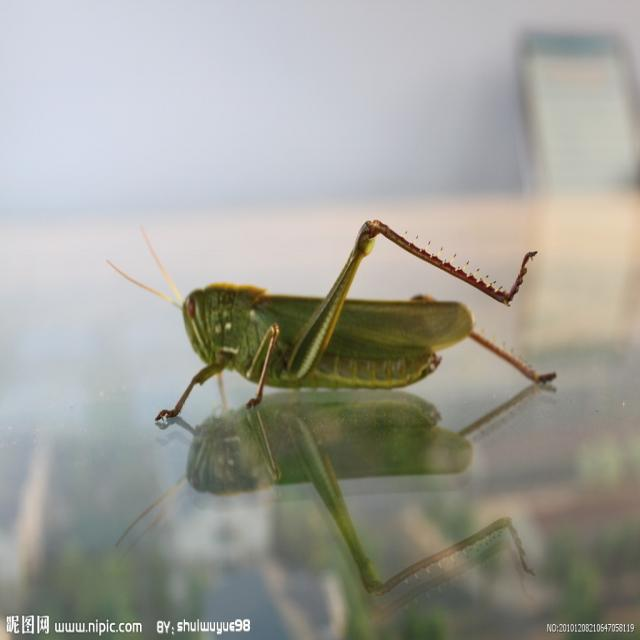ZhaMeng: (114, 208, 556, 442)
